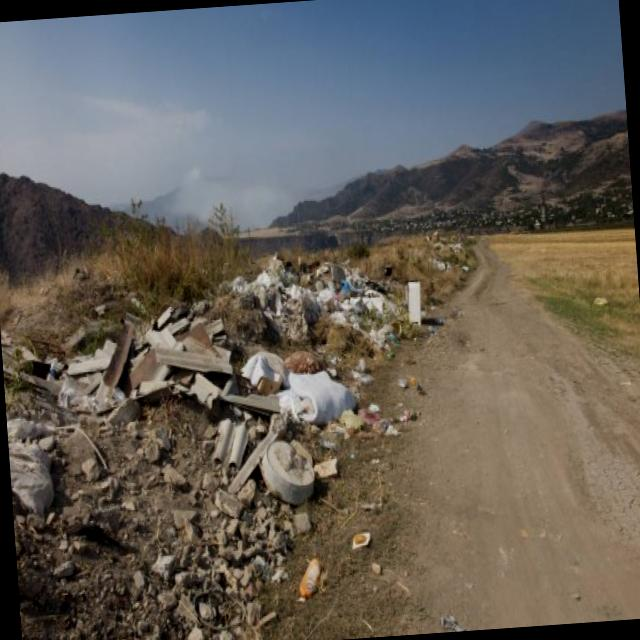garbage: (0, 232, 429, 612)
